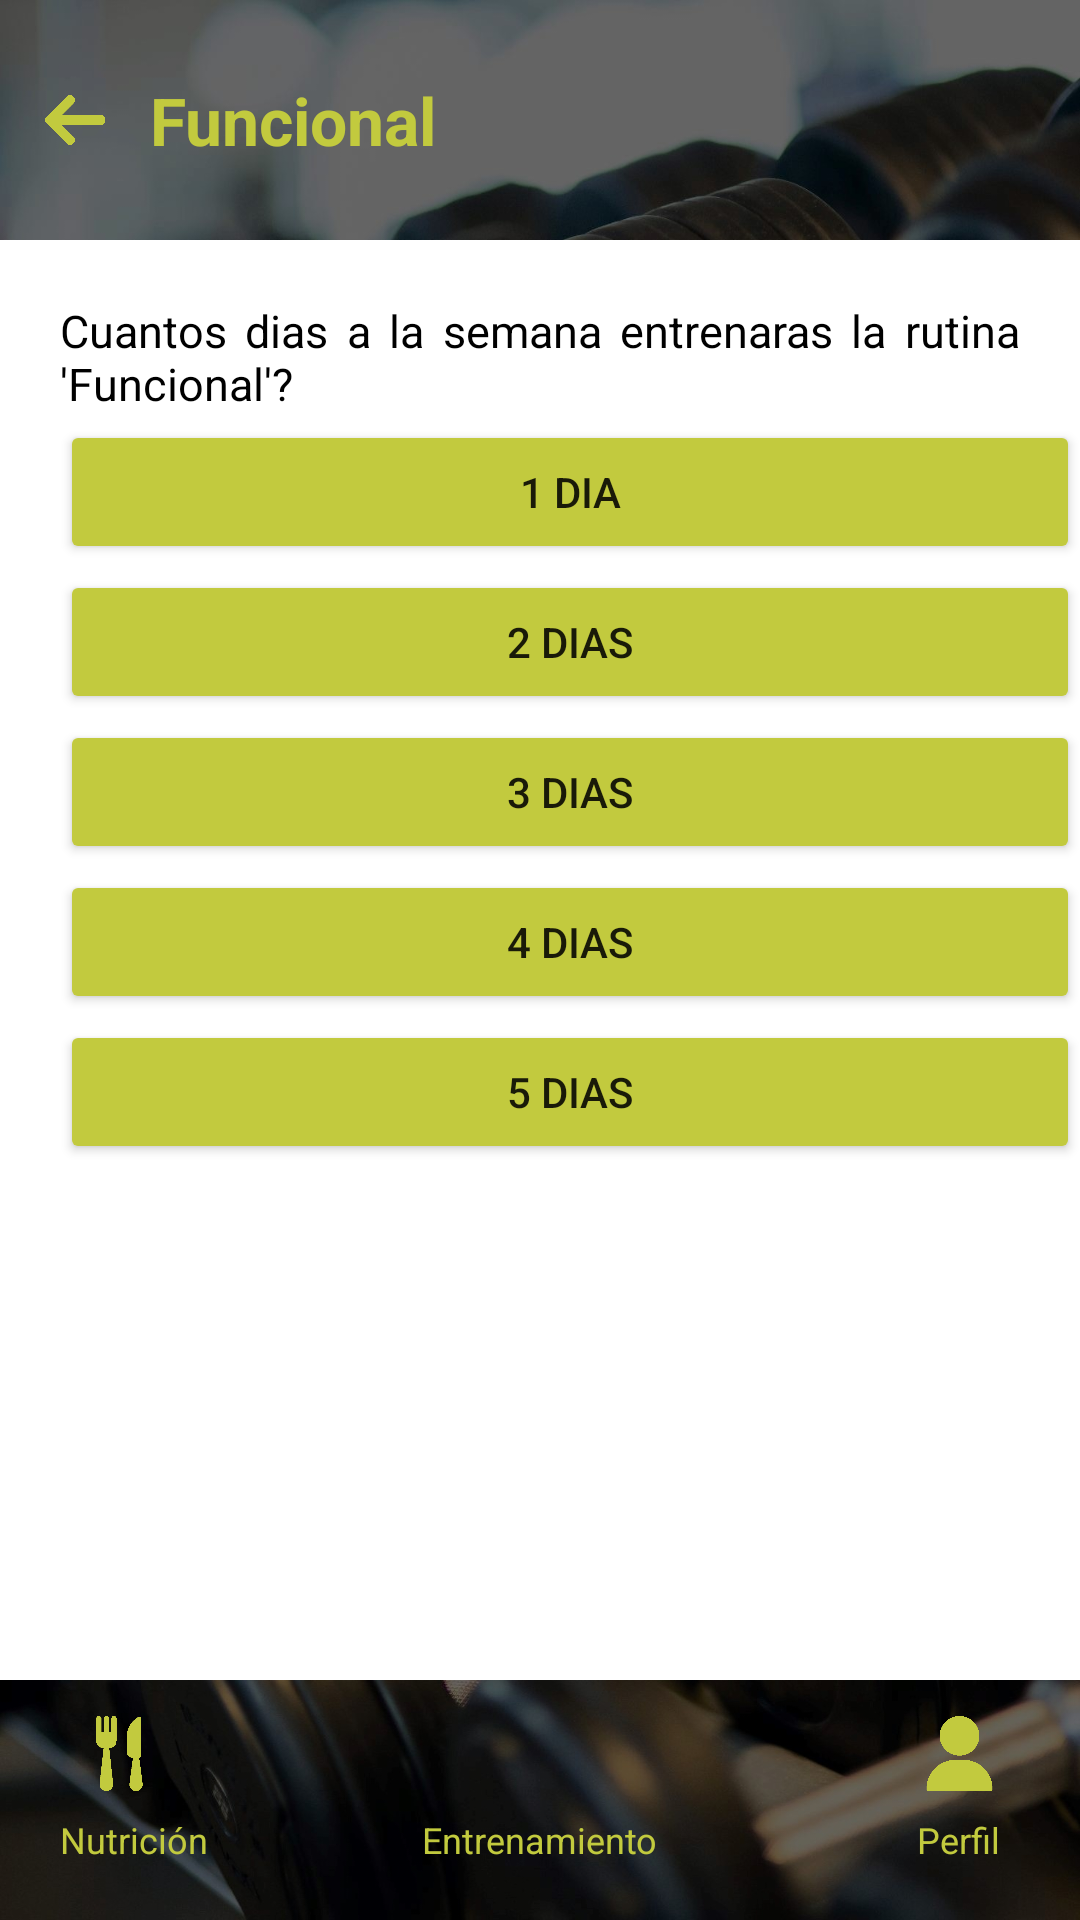

Icons on this 1080×1920 Android screen, each with its box as (x1, y1, x2, y2):
flechatras: (45, 95, 105, 145)
